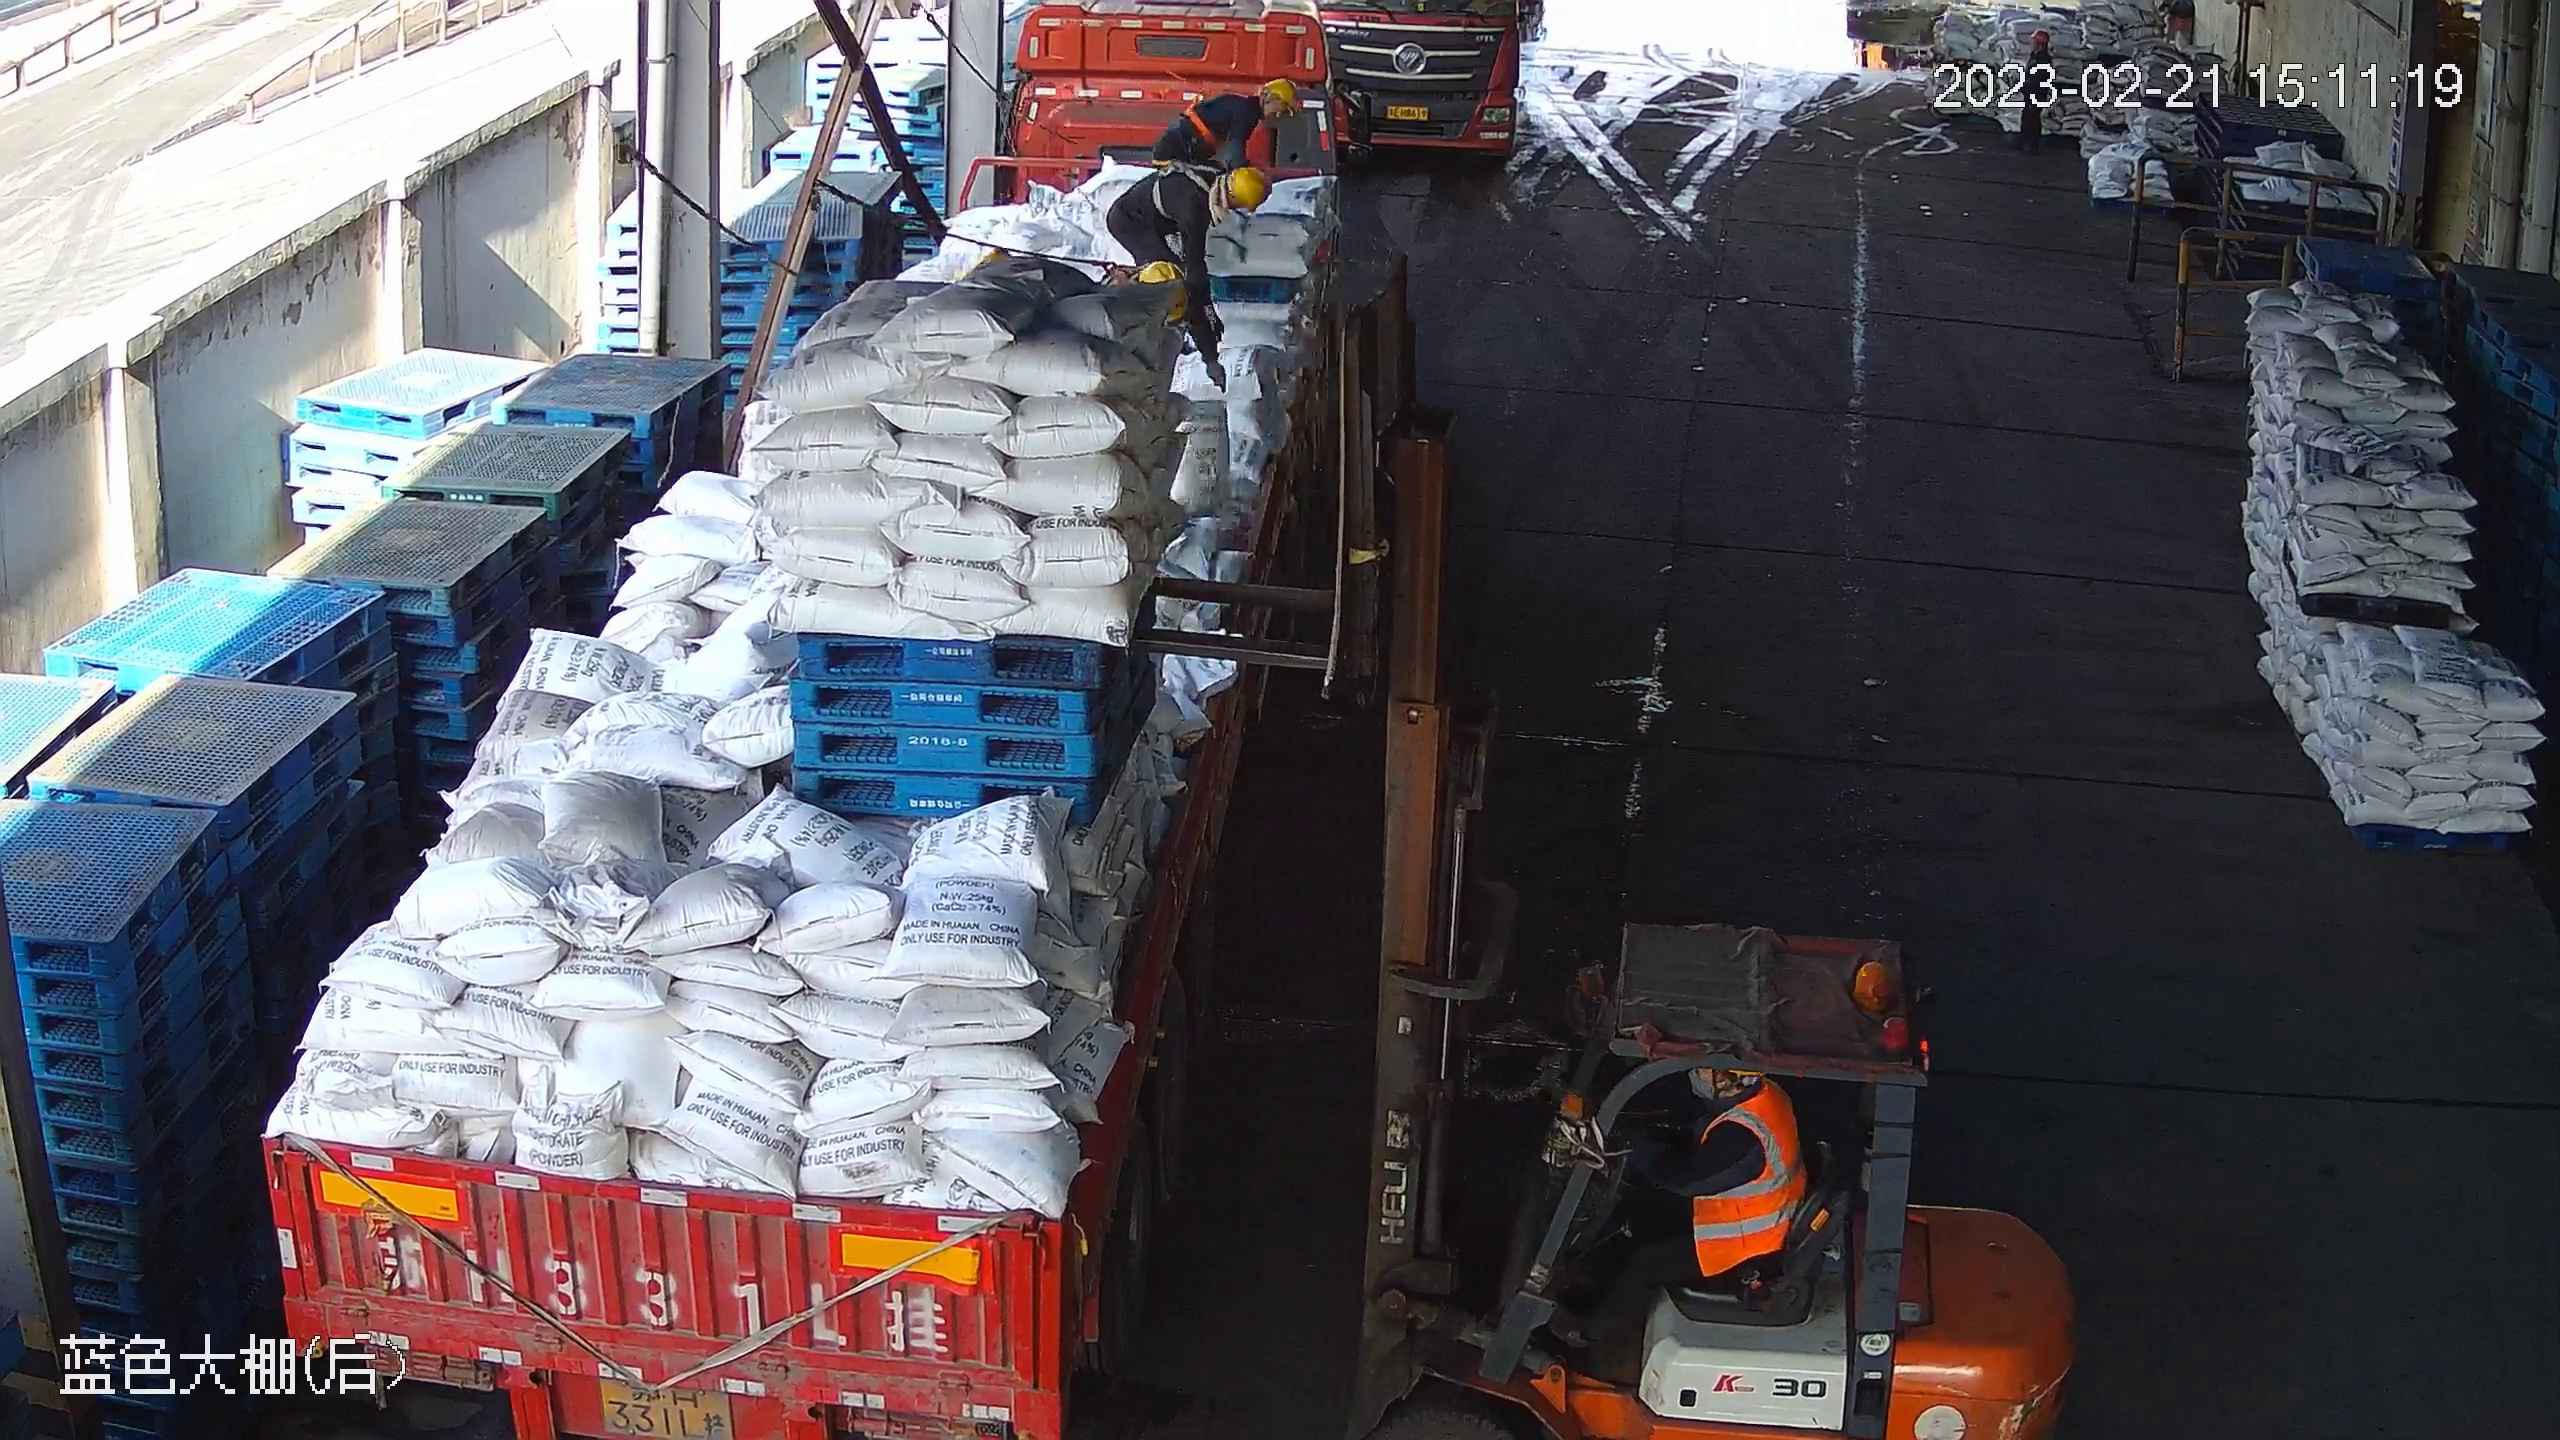belt: (1152, 161, 1222, 228), (1137, 261, 1189, 321), (1182, 79, 1216, 145), (1087, 260, 1138, 286)
head: (1175, 165, 1273, 239), (1224, 77, 1301, 135)
helmet: (1227, 166, 1271, 209), (1262, 77, 1299, 112)
people: (1551, 1066, 1809, 1348), (1106, 163, 1273, 342), (1153, 76, 1301, 172)
truck: (256, 6, 1370, 1440), (1314, 1, 1519, 159)
